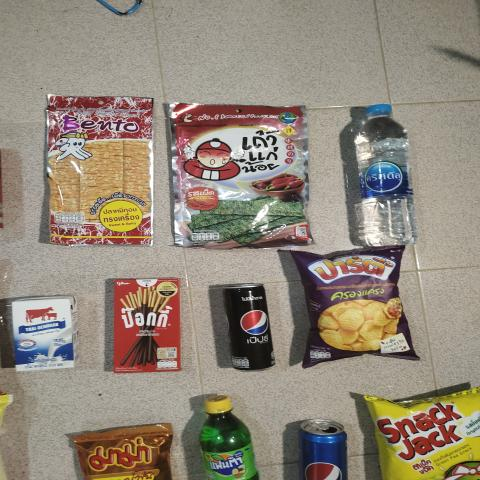bento_red: (46, 94, 153, 246)
crystal: (352, 98, 421, 249)
party_purple: (296, 256, 404, 352)
pepsi_black: (222, 279, 280, 368)
pokki: (112, 281, 182, 371)
taokaenoi: (170, 106, 314, 241)
thai_denmark: (4, 293, 84, 373)
